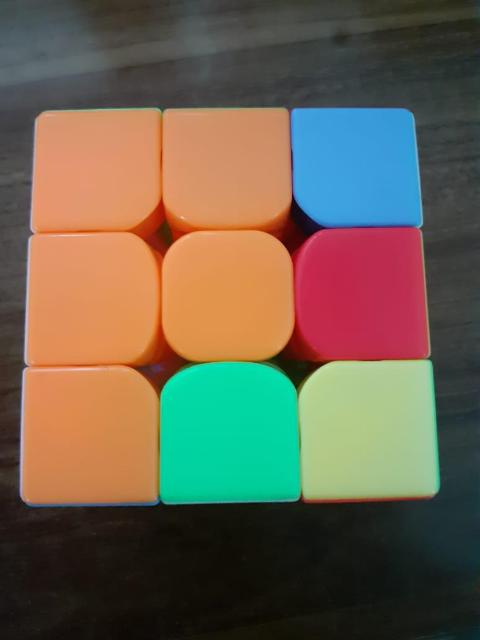Blue: (294, 115, 416, 222)
Green: (162, 368, 298, 502)
Orange: (24, 373, 154, 499), (30, 242, 152, 362), (168, 240, 292, 356), (37, 108, 157, 226), (163, 109, 291, 219)
Red: (303, 237, 425, 357)
Yellow: (306, 371, 438, 495)
